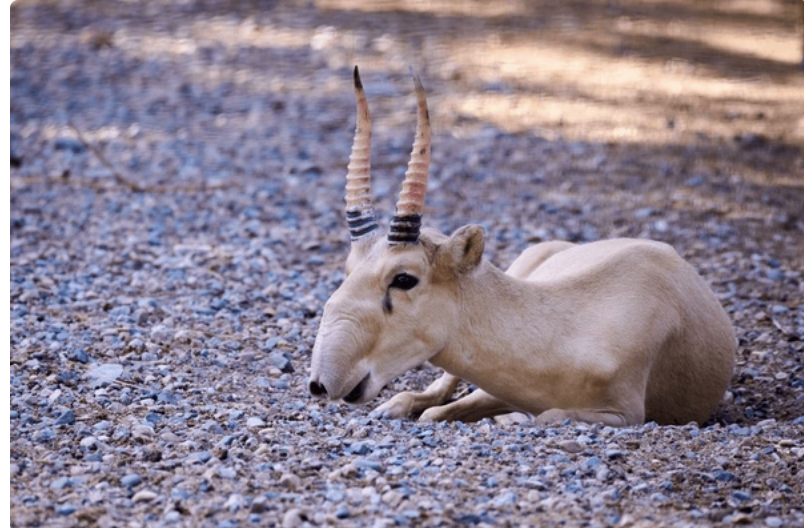saiga: (298, 47, 736, 436)
